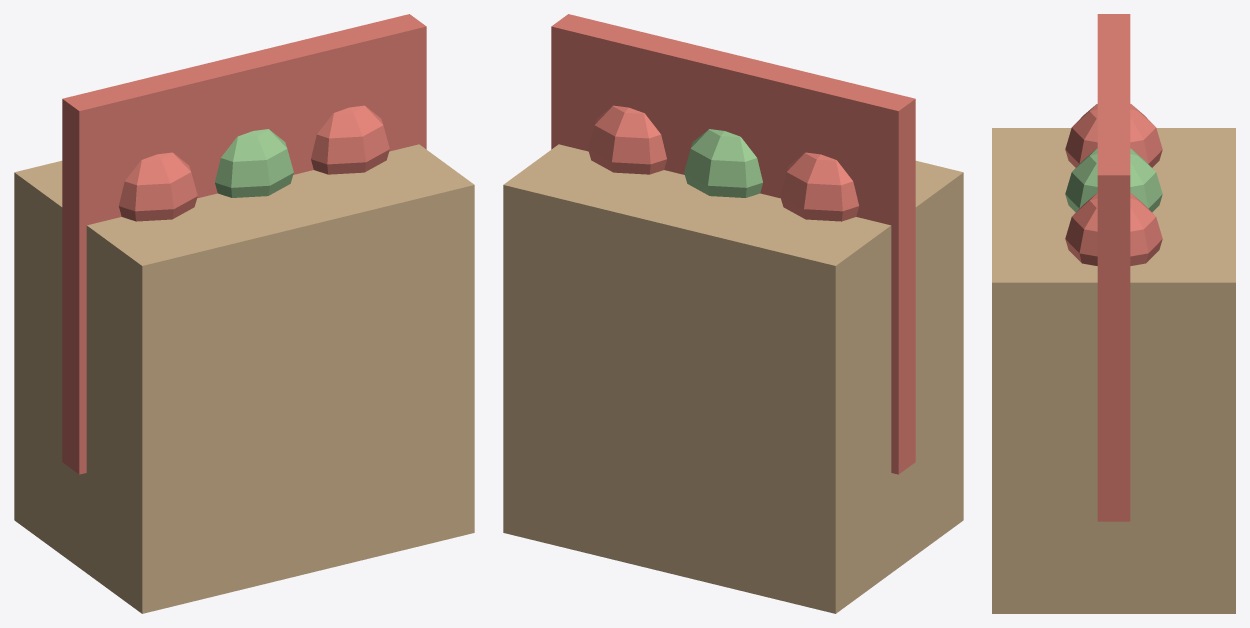
File: crate.glb
3 renders of one model, left to right at view 1: azimuth 30°, elevation 25°; view 2: azimuth 150°, elevation 25°; view 3: azimuth 270°, elevation 25°, orthographic. The views are drawn at different scales.
Visible parts, largest first — view 1: Crate, Rim, Veg4, Veg3, Veg5; view 2: Crate, Rim, Veg4, Veg3, Veg5; view 3: Crate, Rim, Veg5, Veg3, Veg4.
Part boxes in pixels (x1,y1,x2,y2): Crate: (14,144,474,613); Rim: (62,14,426,474); Veg4: (215,129,293,197); Veg3: (119,152,197,221); Veg5: (311,105,389,174); Crate: (503,144,963,613); Rim: (551,14,915,474); Veg4: (684,129,762,197); Veg3: (780,152,858,221); Veg5: (588,105,666,174); Crate: (992,128,1235,613); Rim: (1097,14,1130,521); Veg5: (1065,193,1162,265); Veg3: (1065,104,1162,167); Veg4: (1065,148,1162,212).
Size of the model in its own units: 0.94 by 1.2 by 0.6.
